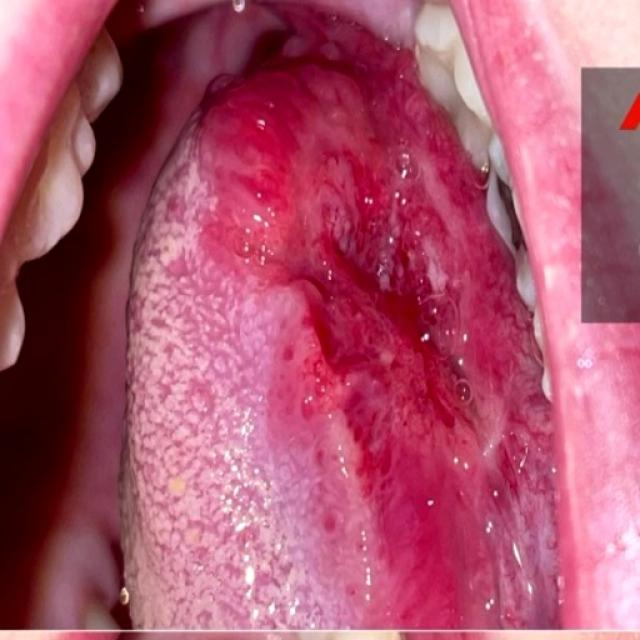cancer-detection: (198, 0, 556, 626)
processing_area: (25, 0, 594, 627)
